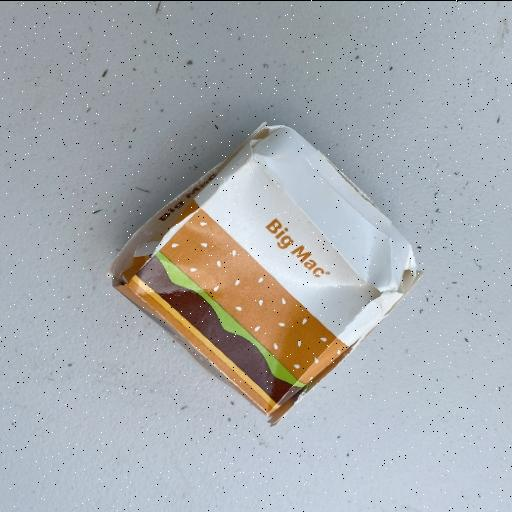Cardboard: (107, 120, 423, 425)
